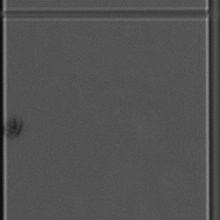Dead Cell: (4, 114, 26, 139)
